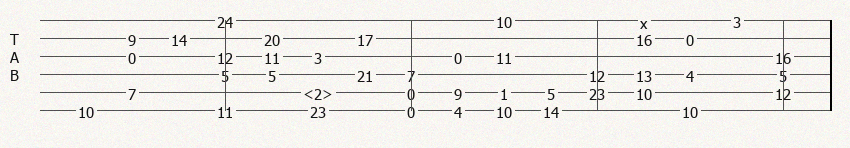0: (128, 49, 140, 64), (407, 85, 419, 100), (407, 103, 419, 118), (454, 49, 466, 64), (686, 31, 698, 46)
1: (500, 85, 512, 100)
10: (78, 103, 98, 118), (496, 103, 516, 118), (496, 13, 516, 28), (636, 85, 656, 100), (682, 103, 702, 118)
11: (217, 103, 237, 118), (264, 49, 284, 64), (496, 49, 516, 64)
12: (217, 49, 237, 64), (589, 67, 609, 82), (775, 85, 795, 100)
13: (636, 67, 656, 82)
14: (171, 31, 191, 46), (543, 103, 563, 118)
16: (636, 31, 656, 46), (775, 49, 795, 64)
17: (357, 31, 377, 46)
20: (264, 31, 284, 46)
21: (357, 67, 377, 82)
23: (310, 103, 330, 118), (589, 85, 609, 100)
24: (217, 13, 237, 28)
3: (314, 49, 326, 64), (733, 13, 745, 28)
4: (454, 103, 466, 118), (686, 67, 698, 82)
5: (221, 67, 233, 82), (268, 67, 280, 82), (547, 85, 559, 100), (779, 67, 791, 82)
7: (128, 85, 140, 100), (407, 67, 419, 82)
9: (128, 31, 140, 46), (454, 85, 466, 100)
harmonic: (303, 85, 337, 100)
x: (640, 14, 652, 26)
